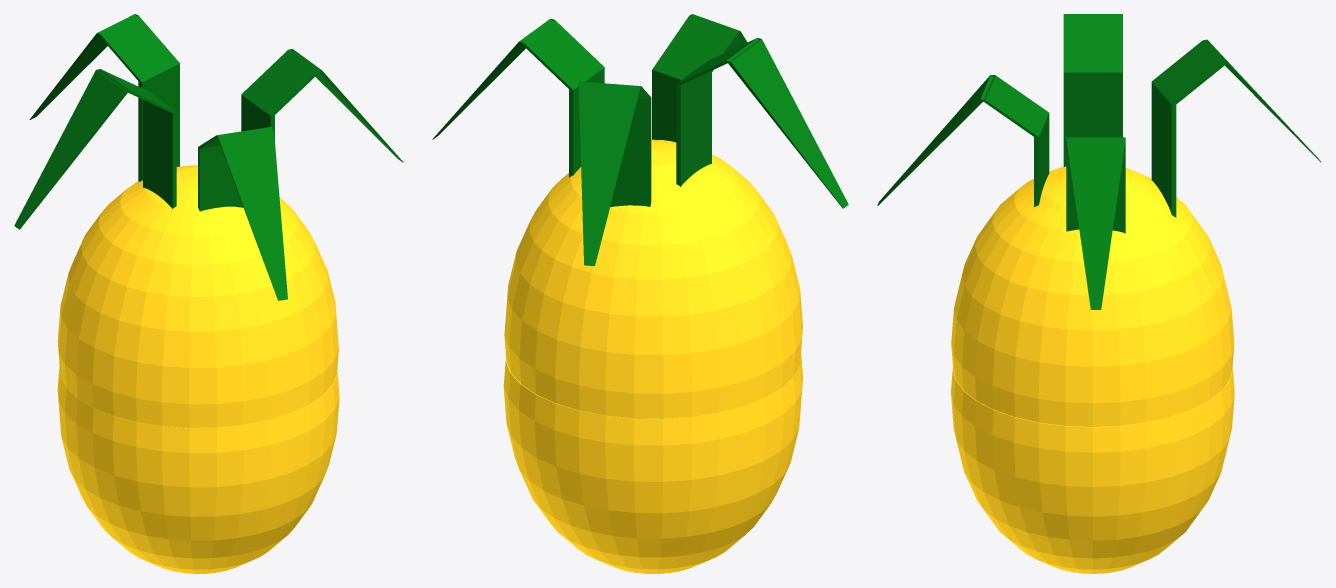
Rendered from pinapple.fbx.
The picture shows the model from 3 angles, left to right: view 1: azimuth 30°, elevation 25°; view 2: azimuth 150°, elevation 25°; view 3: azimuth 270°, elevation 25°; orthographic projection. The views are drawn at different scales.
Parts seen in each view (by area): view 1: Sphere.001, Sphere, Cube.003, Cube, Cube.001, Cube.002; view 2: Sphere.001, Sphere, Cube.001, Cube, Cube.002, Cube.003; view 3: Sphere.001, Sphere, Cube, Cube.002, Cube.001, Cube.003.
Part boxes in pixels (box(x1,y1,x2,y2)): Sphere.001: box(57, 165, 338, 427); Sphere: box(57, 365, 339, 573); Cube.003: box(198, 126, 287, 300); Cube: box(14, 69, 176, 229); Cube.001: box(29, 14, 179, 181); Cube.002: box(241, 48, 403, 162); Sphere.001: box(504, 139, 802, 418); Sphere: box(503, 352, 802, 573); Cube.001: box(578, 81, 651, 265); Cube: box(676, 38, 848, 208); Cube.002: box(432, 18, 604, 177); Cube.003: box(652, 14, 747, 142); Sphere.001: box(951, 166, 1234, 426); Sphere: box(951, 368, 1234, 573); Cube: box(1063, 14, 1122, 166); Cube.002: box(1066, 137, 1125, 309); Cube.001: box(1151, 39, 1321, 217); Cube.003: box(877, 75, 1049, 206).
Size of the model in its own units: 222 by 277 by 220.
